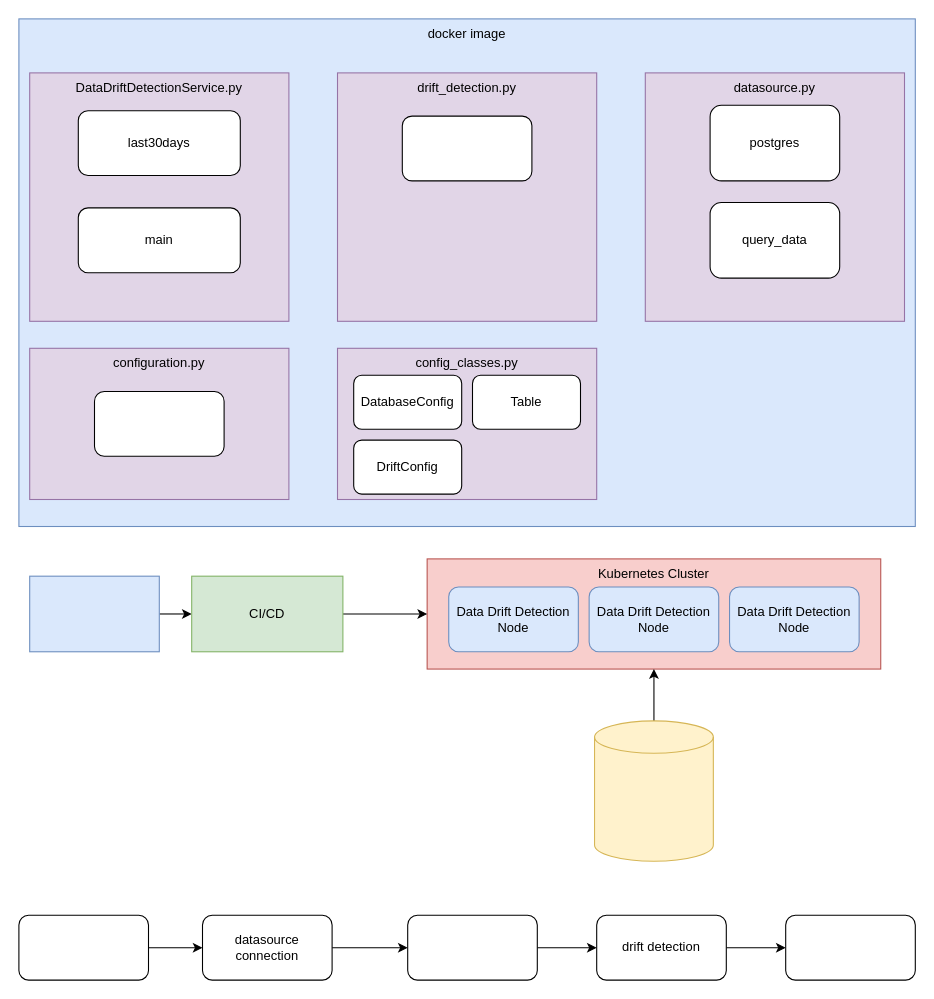
The diagram is 934 pixels wide and 999 high, and some of its shapes have lost their labels. The centre of each missing label's shape, as x and y in pixels:
"API Call" belongs at (472,947).
"data detection" belongs at (466,148).
"Data Drift Detection Image" belongs at (94,613).
"Database" belongs at (653,790).
"init" belongs at (83,947).
"read_configuration" belongs at (158,423).
"report generation" belongs at (850,947).
